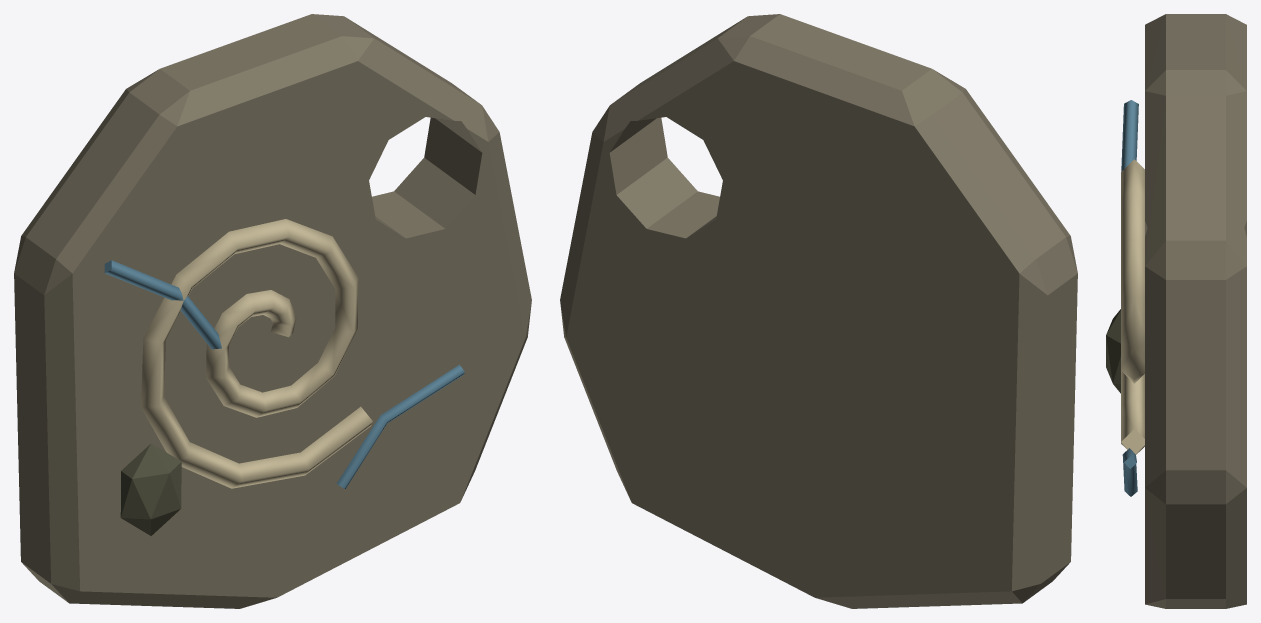
Rendered from celestial_fossil.obj.
3 renders of one model, left to right at view 1: azimuth 30°, elevation 25°; view 2: azimuth 150°, elevation 25°; view 3: azimuth 270°, elevation 25°, orthographic.
Visible parts, largest first — view 1: B_StoneSlab.001_rough_limestone, C_BoneSpiral.001_bone, A_EmbeddedNodule.001_oxidized_bronze, C_MineralVein_A.001_crystal, C_MineralVein_B.001_crystal; view 2: B_StoneSlab.001_rough_limestone; view 3: B_StoneSlab.001_rough_limestone, C_BoneSpiral.001_bone, C_MineralVein_A.001_crystal, A_EmbeddedNodule.001_oxidized_bronze, C_MineralVein_B.001_crystal.
Part boxes in pixels (x1=…): B_StoneSlab.001_rough_limestone: x1=14, y1=14, x2=531, y2=608; C_BoneSpiral.001_bone: x1=141, y1=219, x2=372, y2=488; A_EmbeddedNodule.001_oxidized_bronze: x1=120, y1=443, x2=181, y2=535; C_MineralVein_A.001_crystal: x1=104, y1=260, x2=221, y2=349; C_MineralVein_B.001_crystal: x1=336, y1=364, x2=464, y2=488; B_StoneSlab.001_rough_limestone: x1=560, y1=14, x2=1077, y2=608; B_StoneSlab.001_rough_limestone: x1=1145, y1=14, x2=1246, y2=608; C_BoneSpiral.001_bone: x1=1121, y1=159, x2=1144, y2=454; C_MineralVein_A.001_crystal: x1=1121, y1=100, x2=1138, y2=171; A_EmbeddedNodule.001_oxidized_bronze: x1=1106, y1=309, x2=1120, y2=393; C_MineralVein_B.001_crystal: x1=1122, y1=448, x2=1137, y2=496.
Bounding box in the file's own units: 1.87 × 2 × 0.4695.
